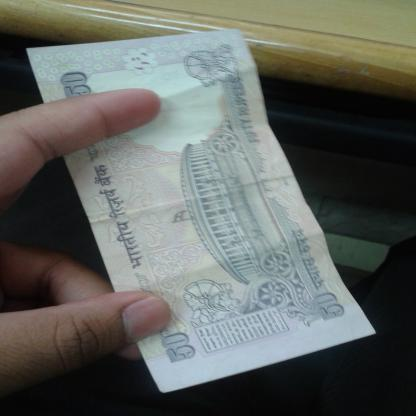Old50Back: (26, 29, 376, 394)
